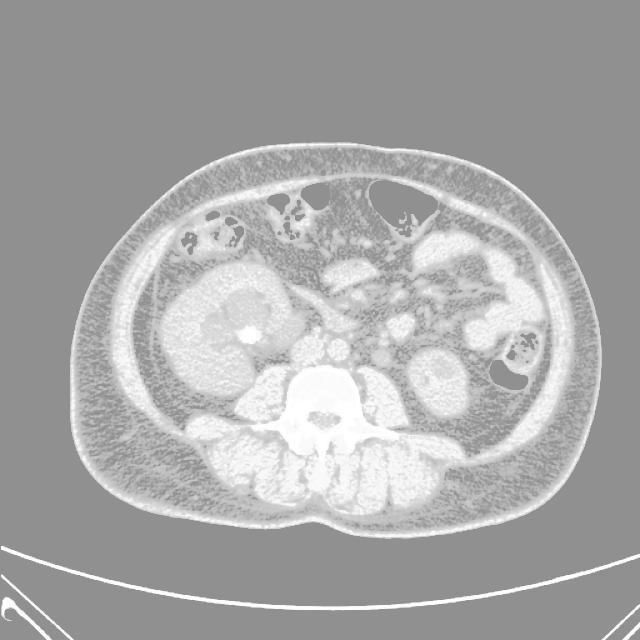STONE: (145, 154, 569, 394)
